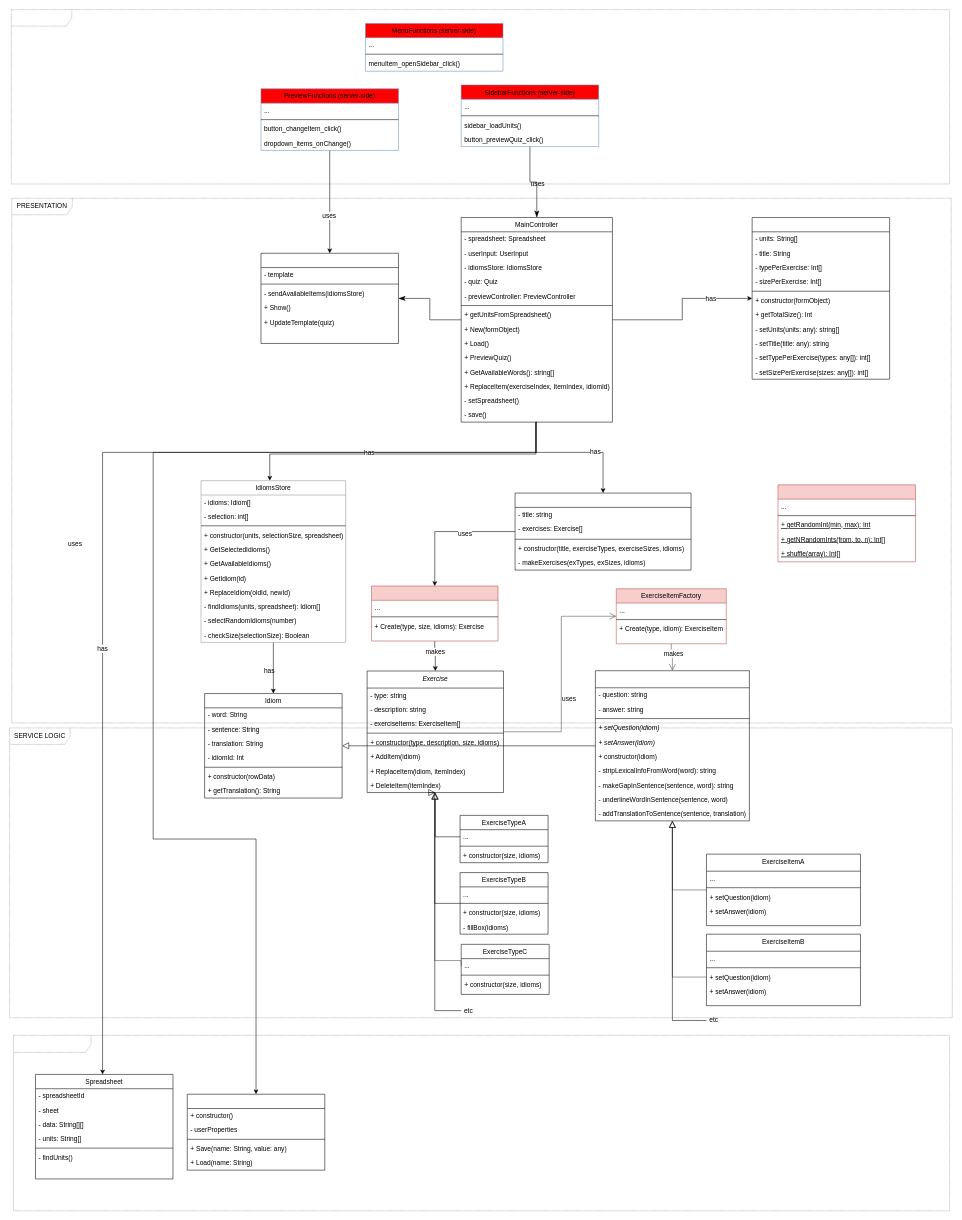
The diagram is 962 pixels wide and 1220 high, and some of its shapes have lost their labels. The shapes that lost their labels are listed below. From the top down, each one's box as (x1, y1, x2, y2) in pixels, then its label:
(260, 253, 398, 343): Preview
(752, 217, 890, 379): UserInput
(515, 493, 691, 570): Quiz
(777, 484, 915, 562): Util
(371, 585, 498, 641): ExerciseFactory
(595, 670, 749, 821): ExerciseItem
(187, 1094, 325, 1170): CacheHelper
(13, 1035, 950, 1211): DATA REPOSITORY
